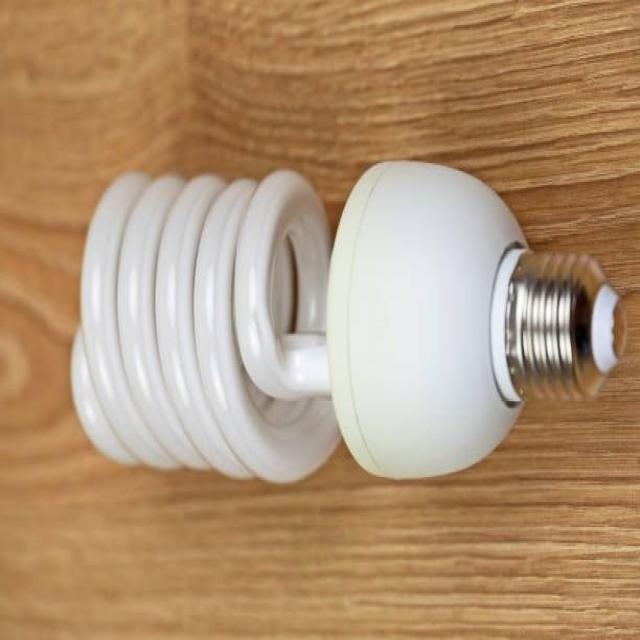electronic: (69, 155, 627, 485), (69, 165, 342, 484)
